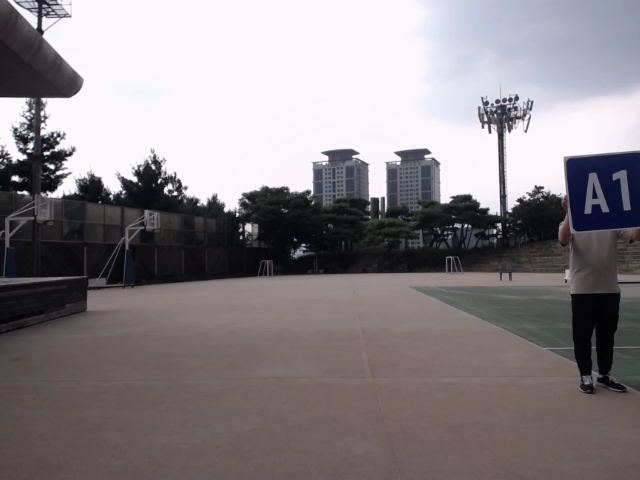delivery_a1: (565, 148, 639, 231)
